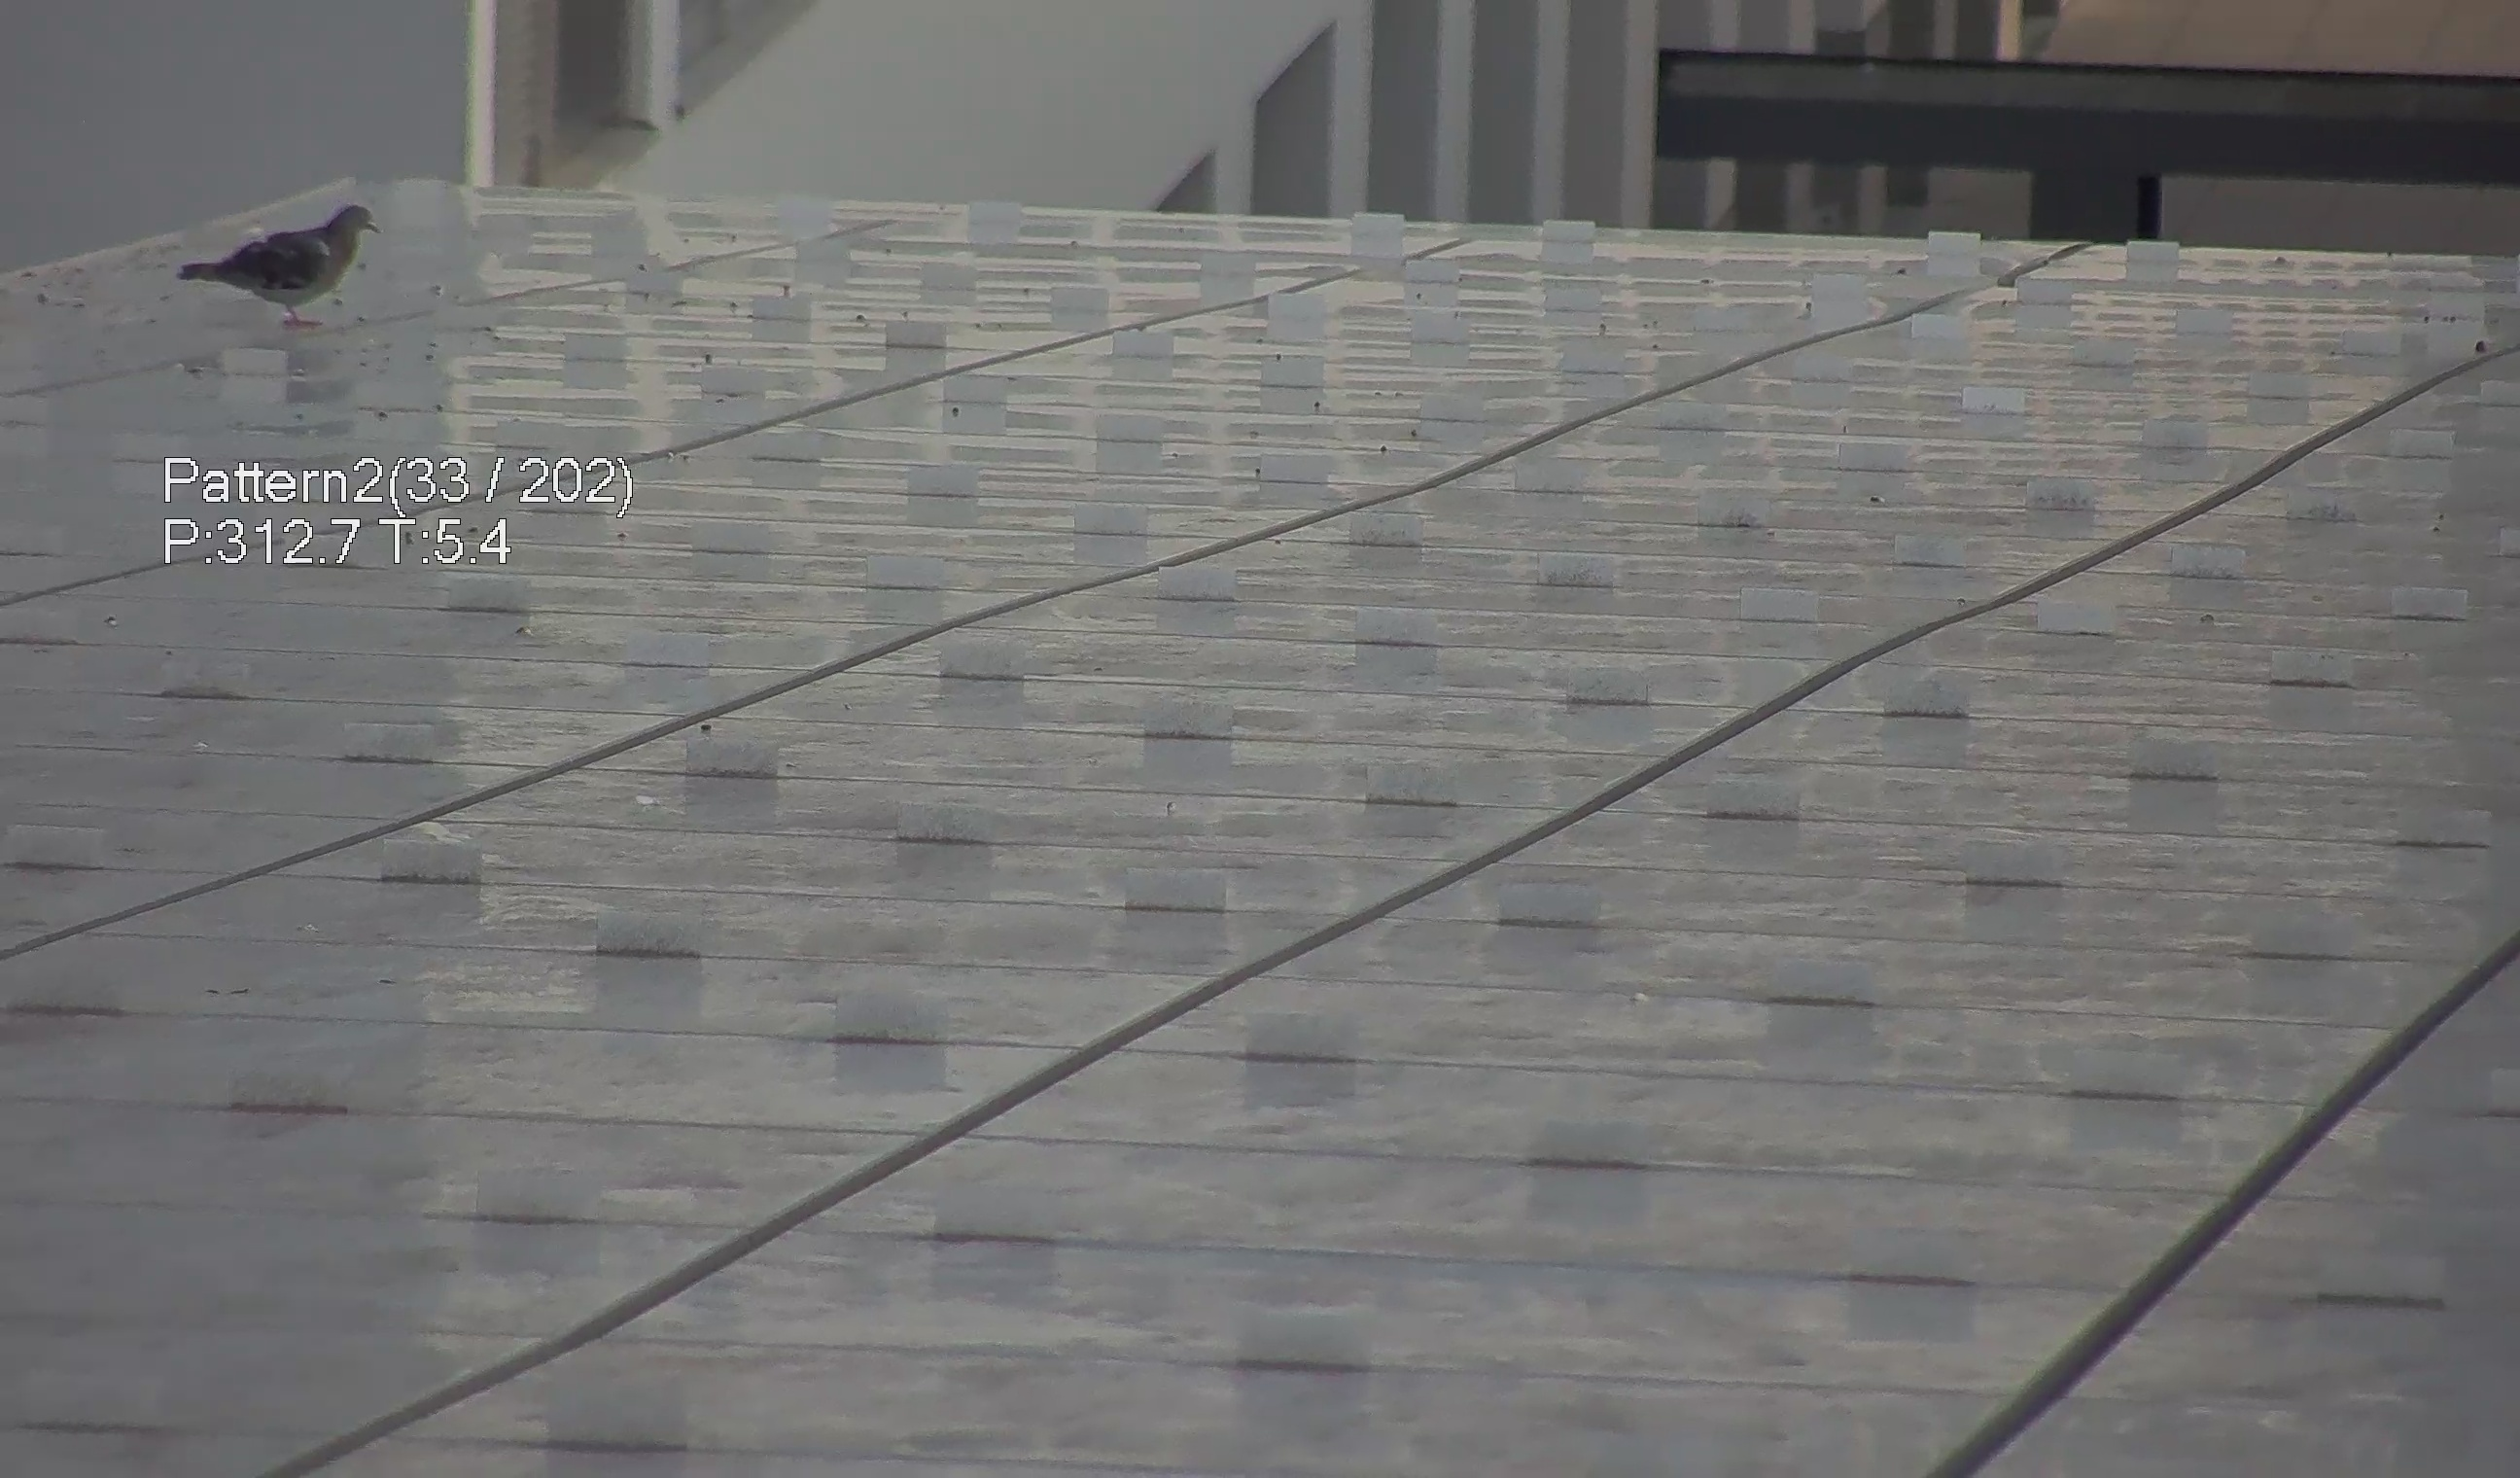Pigeon: (176, 183, 387, 318)
